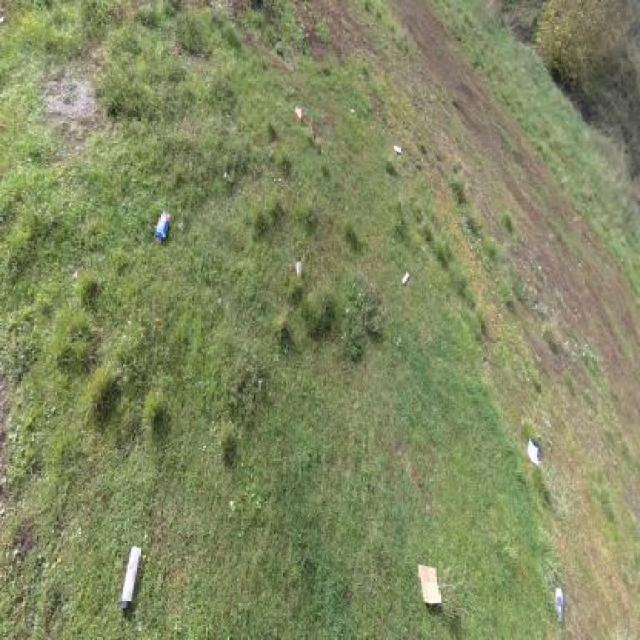Garbage: (121, 546, 141, 610), (418, 563, 442, 604), (155, 210, 170, 239), (527, 437, 540, 468), (554, 585, 563, 622), (400, 270, 410, 285), (295, 105, 303, 121), (295, 261, 301, 278), (393, 145, 401, 154), (349, 107, 355, 114)
